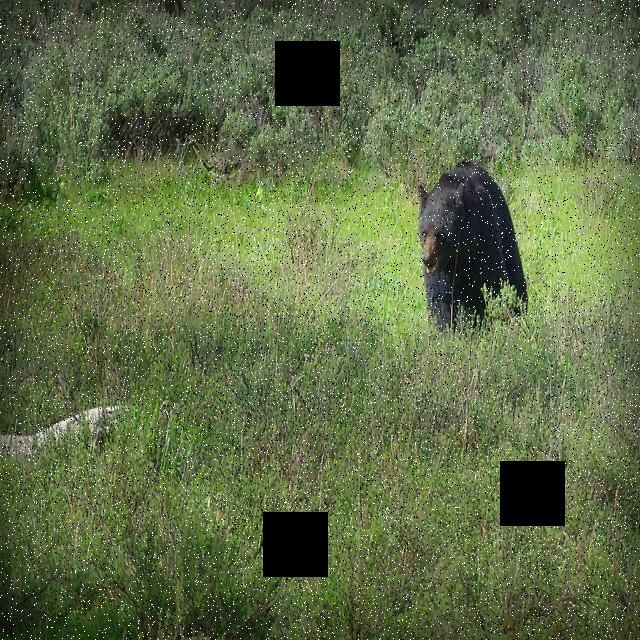Bear: (410, 148, 538, 329)
